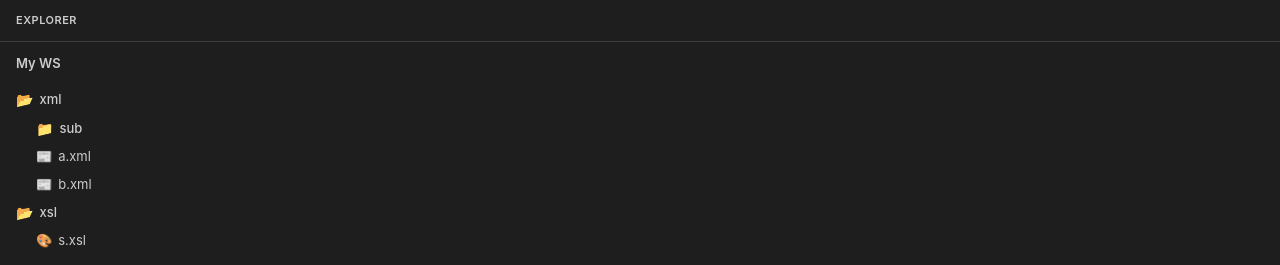
Test: FileExplorer › collapses and expands a root folder on click
Step 1. Click the text "xsl" → (36, 212), box 16,204 -> 57,221
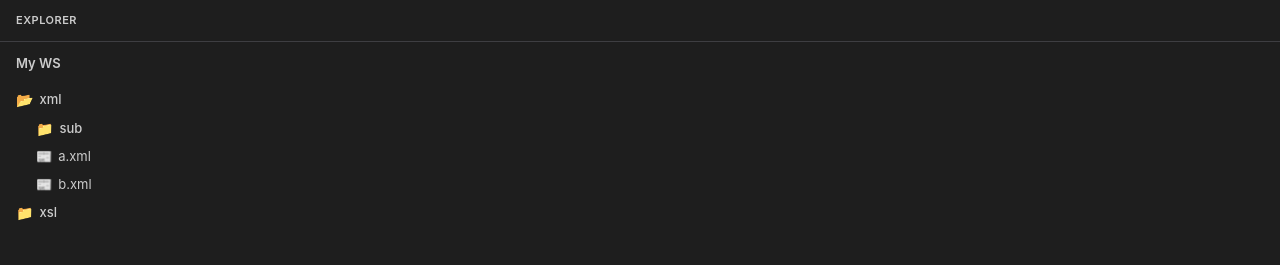
Expected: the text "s.xsl" is gone
Step 2. Click the text "xsl" → (36, 212), box 16,204 -> 57,221
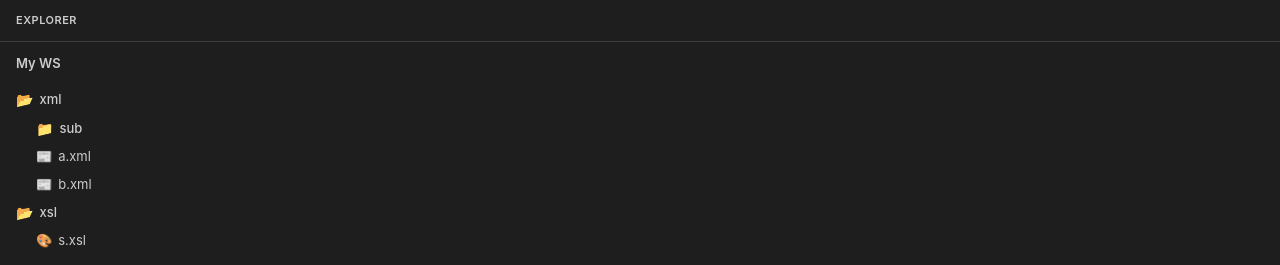
Expected: the text "🎨 s.xsl" is shown, 36,232 -> 86,248
